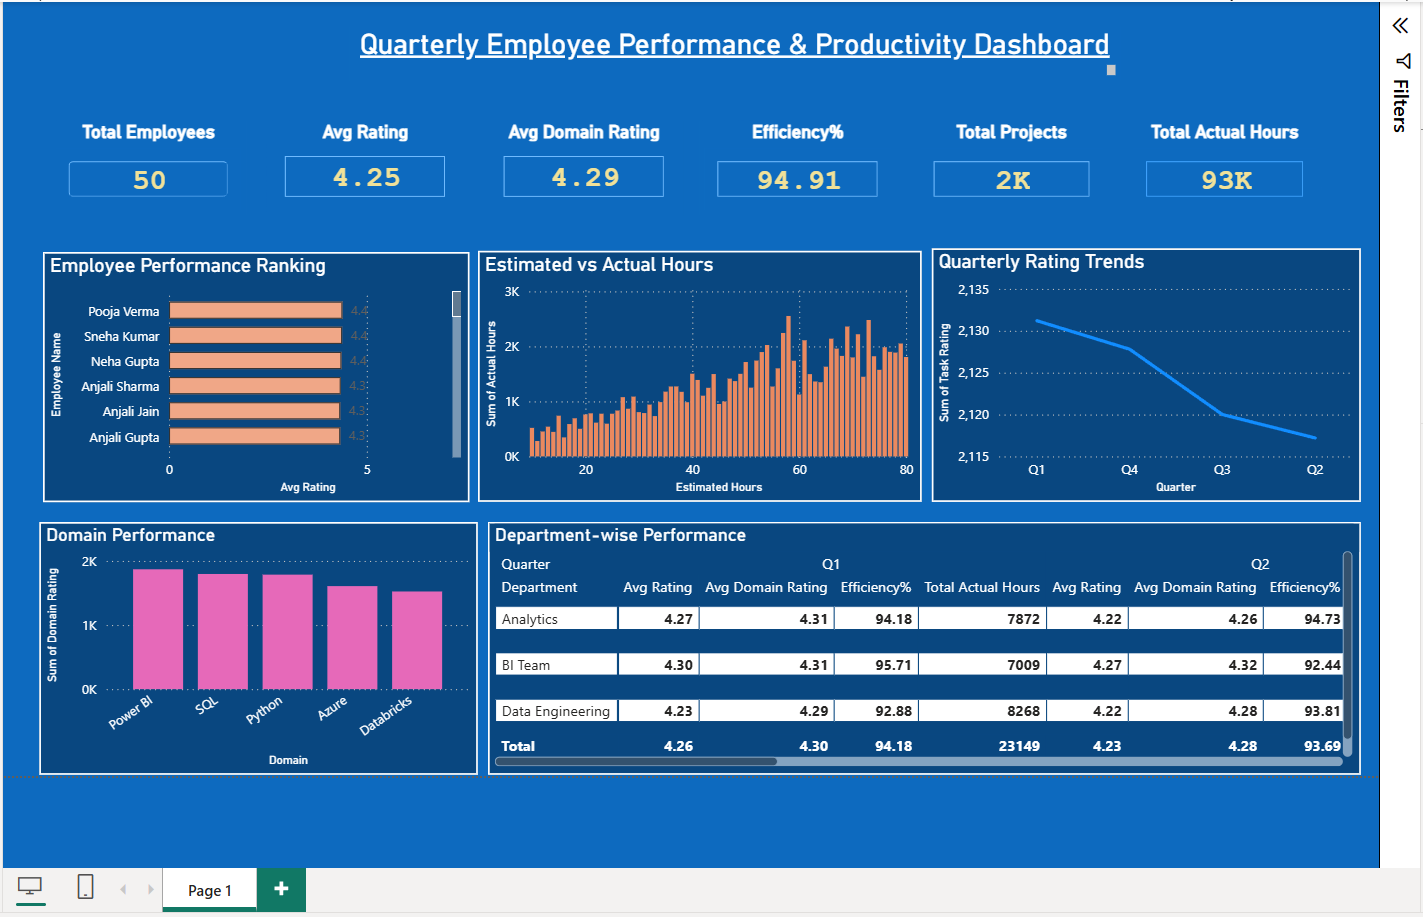

The page's visual inventory and layout, read from the dashboard file:
{"tool":"powerbi","page":{"name":"Page 1","canvas":[1280,720],"ordinal":0},"visuals":[{"type":"cardVisual","title":"Avg Rating","fields":{"Data":["Performance_Data.Avg Rating"]},"box":[238.9,85.3,183.7,114.1],"z":1000},{"type":"cardVisual","title":"Avg Domain Rating","fields":{"Data":["Performance_Data.Avg Domain Rating"]},"box":[441.9,85.3,183.7,114.1],"z":2000},{"type":"cardVisual","title":"Efficiency%","fields":{"Data":["Performance_Data.Efficiency%"]},"box":[641.2,85.3,183.7,114.1],"z":3000},{"type":"cardVisual","title":"Total Projects","fields":{"Data":["Performance_Data.Total Projects"]},"box":[841.7,85.3,178.9,114.1],"z":4000},{"type":"cardVisual","title":"Total Actual Hours","fields":{"Data":["Performance_Data.Total Actual Hours"]},"box":[1038.6,86.5,180.1,114.1],"z":5000},{"type":"barChart","title":"Employee Performance Ranking","fields":{"Category":["Employee_Master.Employee Name"],"Y":["Performance_Data.Avg Rating"]},"box":[37.2,233,393.8,189.7],"z":5001},{"type":"clusteredColumnChart","title":"Estimated vs Actual Hours","fields":{"Category":["Performance_Data.Estimated Hours"],"Y":["Sum(Performance_Data.Actual Hours)"]},"box":[441.9,231.7,399.8,189.7],"z":5002},{"type":"lineChart","title":"Quarterly Rating Trends","fields":{"Category":["Performance_Data.Quarter"],"Y":["Sum(Performance_Data.Task Rating)"]},"box":[854.9,229.3,391.4,189.7],"z":5003},{"type":"clusteredColumnChart","title":"Domain Performance","fields":{"Category":["Performance_Data.Domain"],"Y":["Sum(Performance_Data.Domain Rating)"]},"box":[37.2,439.5,409.5,205.3],"z":5004},{"type":"pivotTable","title":"Department-wise Performance","fields":{"Rows":["Performance_Data.Department"],"Columns":["Performance_Data.Quarter"],"Values":["Performance_Data.Avg Rating","Performance_Data.Avg Domain Rating","Performance_Data.Efficiency%","Performance_Data.Total Actual Hours"]},"box":[475.5,440.7,399.8,205.3],"z":5005},{"type":"cardVisual","title":"Total Employees","fields":{"Data":["Employee_Master.Total Employees"]},"box":[37.2,85.3,182.5,114.1],"z":5006},{"type":"textbox","box":[321.8,6,708.4,64.8],"z":5007}]}

Visuals, with their boxes on the page's 1280x720 design canvas (x1, y1, x2, y2). These are canvas units, not pixel positions in the 1423x917 screenshot, which may show the page scaled, cropped or inside an application window:
"Avg Rating" cardVisual: rect(239, 85, 423, 199)
"Avg Domain Rating" cardVisual: rect(442, 85, 626, 199)
"Efficiency%" cardVisual: rect(641, 85, 825, 199)
"Total Projects" cardVisual: rect(842, 85, 1021, 199)
"Total Actual Hours" cardVisual: rect(1039, 86, 1219, 201)
"Employee Performance Ranking" barChart: rect(37, 233, 431, 423)
"Estimated vs Actual Hours" clusteredColumnChart: rect(442, 232, 842, 421)
"Quarterly Rating Trends" lineChart: rect(855, 229, 1246, 419)
"Domain Performance" clusteredColumnChart: rect(37, 440, 447, 645)
"Department-wise Performance" pivotTable: rect(476, 441, 875, 646)
"Total Employees" cardVisual: rect(37, 85, 220, 199)
textbox: rect(322, 6, 1030, 71)
